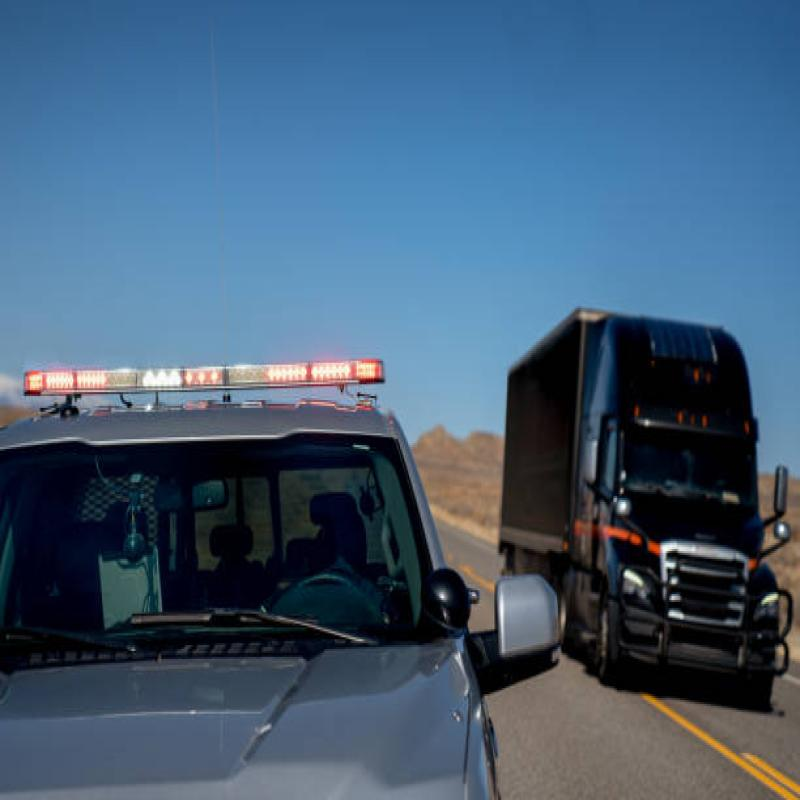AmbulanceSiren: (11, 334, 392, 424)
